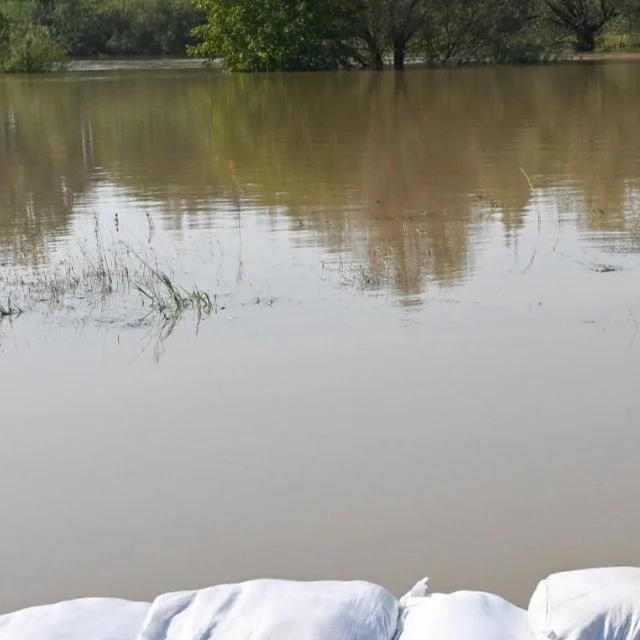sandbag: (136, 580, 399, 640), (400, 576, 536, 640), (530, 566, 640, 640), (0, 598, 149, 640)
